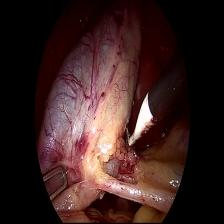Grasper: (40, 164, 70, 209)
Hook: (124, 90, 158, 154)
